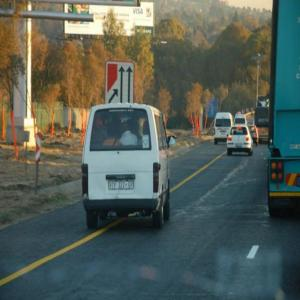Vehicle-registration-plate: (107, 181, 134, 191)
